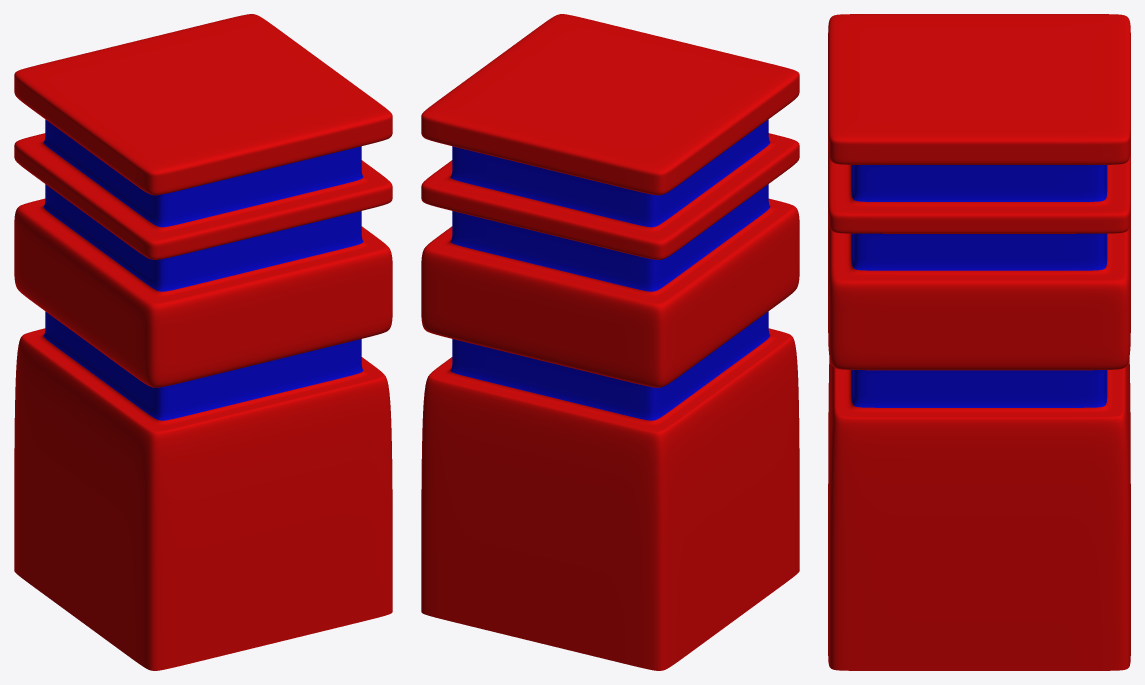
File: Lamp.fbx
The picture shows the model from 3 angles, left to right: view 1: azimuth 30°, elevation 25°; view 2: azimuth 150°, elevation 25°; view 3: azimuth 270°, elevation 25°; orthographic projection. The views are drawn at different scales.
Parts seen in each view (by area): view 1: Cube.159; view 2: Cube.159; view 3: Cube.159.
Part boxes in pixels (<box>): Cube.159: <box>14,14,392,670</box>; Cube.159: <box>421,14,799,670</box>; Cube.159: <box>828,14,1130,670</box>.
Bounding box in the file's own units: 160 × 310 × 160.
